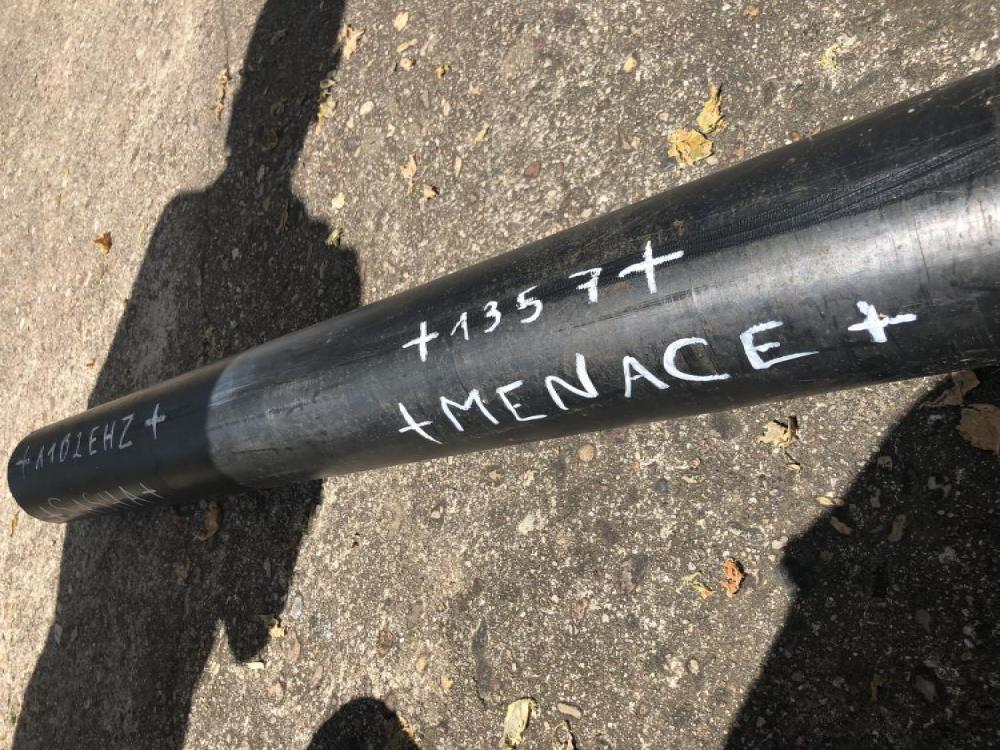+: (618, 240, 684, 293), (847, 301, 917, 342), (396, 402, 446, 445), (403, 322, 441, 362)
1: (450, 312, 472, 341)
3: (480, 300, 504, 333)
5: (518, 284, 546, 324)
7: (568, 267, 602, 303)
A: (622, 356, 670, 398)
C: (663, 337, 733, 382)
E: (740, 321, 820, 371), (497, 380, 548, 421)
M: (440, 389, 499, 432)
N: (543, 354, 600, 410)
